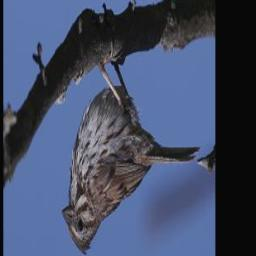Sparrow: (60, 43, 203, 256)
